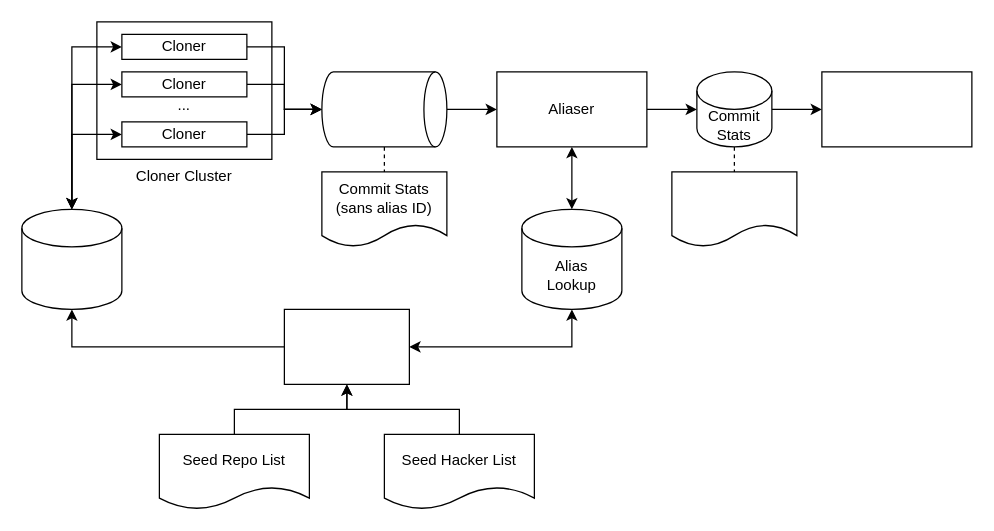
Image size: 994x531. Some labels were removed from this diagram. Each missing label, with the centre of its shape:
"Aliaser Queue" belongs at point (384, 109).
"Commit Stats (with alias ID)" belongs at point (734, 209).
"Data Sciencer" belongs at point (896, 109).
"GitHubber" belongs at point (346, 346).
"Repositories of Interest" belongs at point (71, 258).
